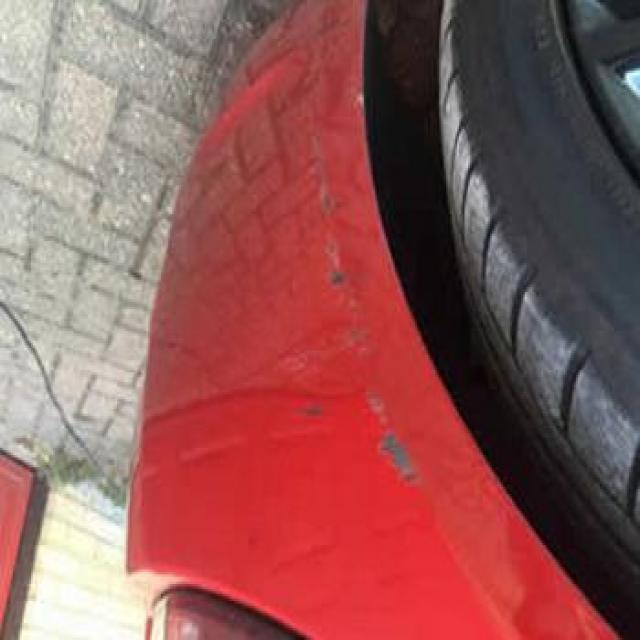scratch: (278, 134, 436, 504)
